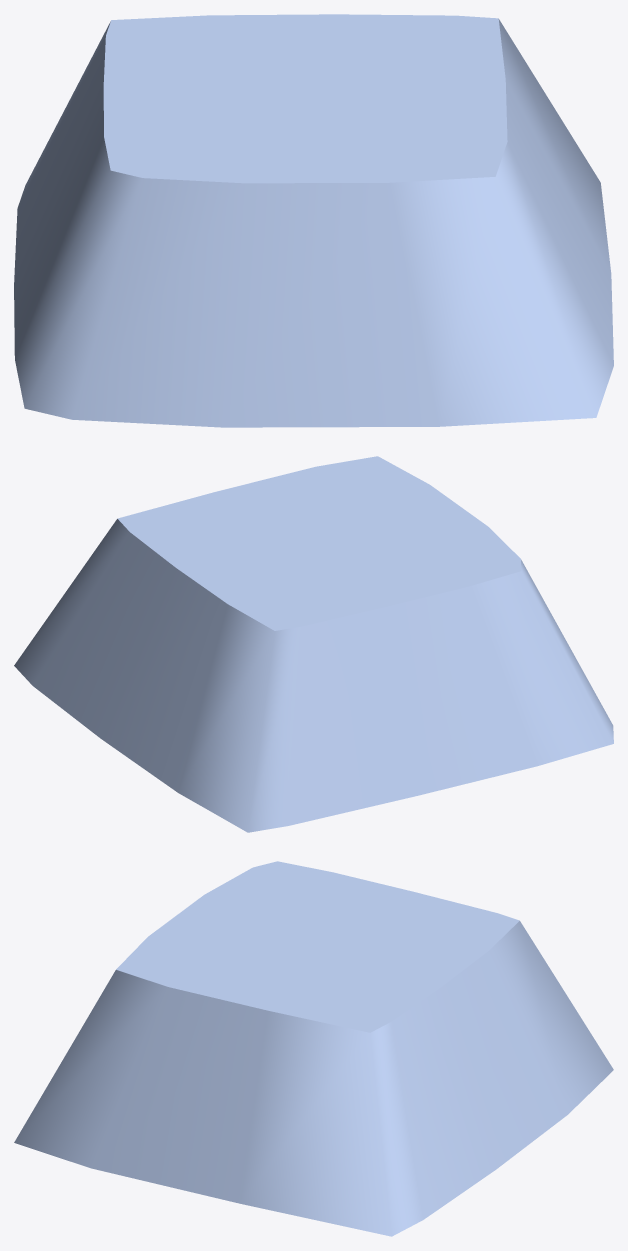
File: Islands_37.FBX
The picture shows the model from 3 angles, top to bottom: view 1: azimuth 30°, elevation 25°; view 2: azimuth 150°, elevation 25°; view 3: azimuth 270°, elevation 25°; orthographic projection. The views are drawn at different scales.
Parts seen in each view (by area): view 1: Islands_37; view 2: Islands_37; view 3: Islands_37.
Boxes of the visible parts, bbox=[...] form: Islands_37: bbox=[14, 14, 613, 427]; Islands_37: bbox=[14, 456, 613, 832]; Islands_37: bbox=[14, 861, 613, 1236].
Size of the model in its own units: 159 by 46.43 by 158.
